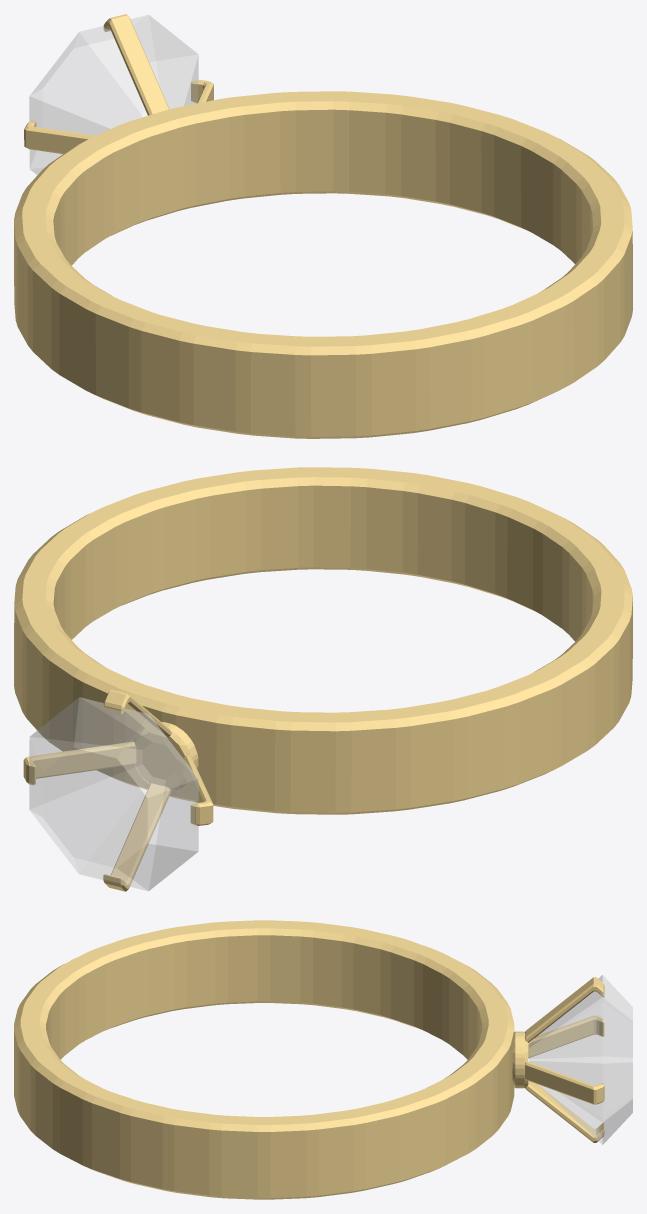
The model's file is ring.fbx.
3 renders of one model, top to bottom at view 1: azimuth 30°, elevation 25°; view 2: azimuth 150°, elevation 25°; view 3: azimuth 270°, elevation 25°, orthographic. The views are drawn at different scales.
Visible parts, largest first — view 1: ring, diamond; view 2: ring, diamond; view 3: ring, diamond.
Part boxes in pixels (bbox=[...]): ring: bbox=[14, 14, 632, 438]; diamond: bbox=[29, 15, 198, 174]; ring: bbox=[14, 467, 632, 891]; diamond: bbox=[29, 697, 198, 891]; ring: bbox=[14, 920, 604, 1199]; diamond: bbox=[529, 975, 632, 1144].
Bounding box in the file's own units: 0.1009 × 0.0354 × 0.1247.
